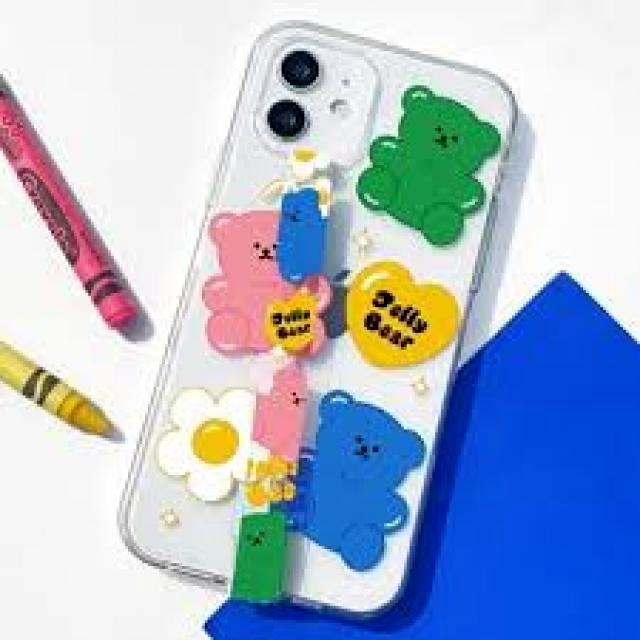lens_back: (259, 96, 316, 142), (274, 46, 324, 94)
phone: (114, 21, 516, 615)
